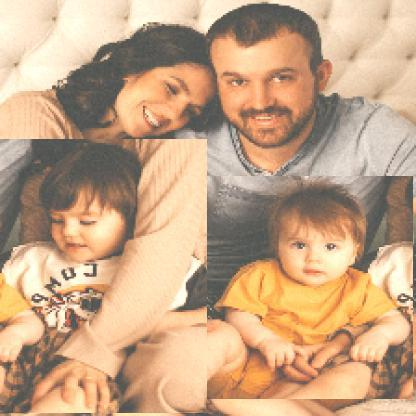child: (1, 140, 209, 415), (161, 177, 415, 401)
